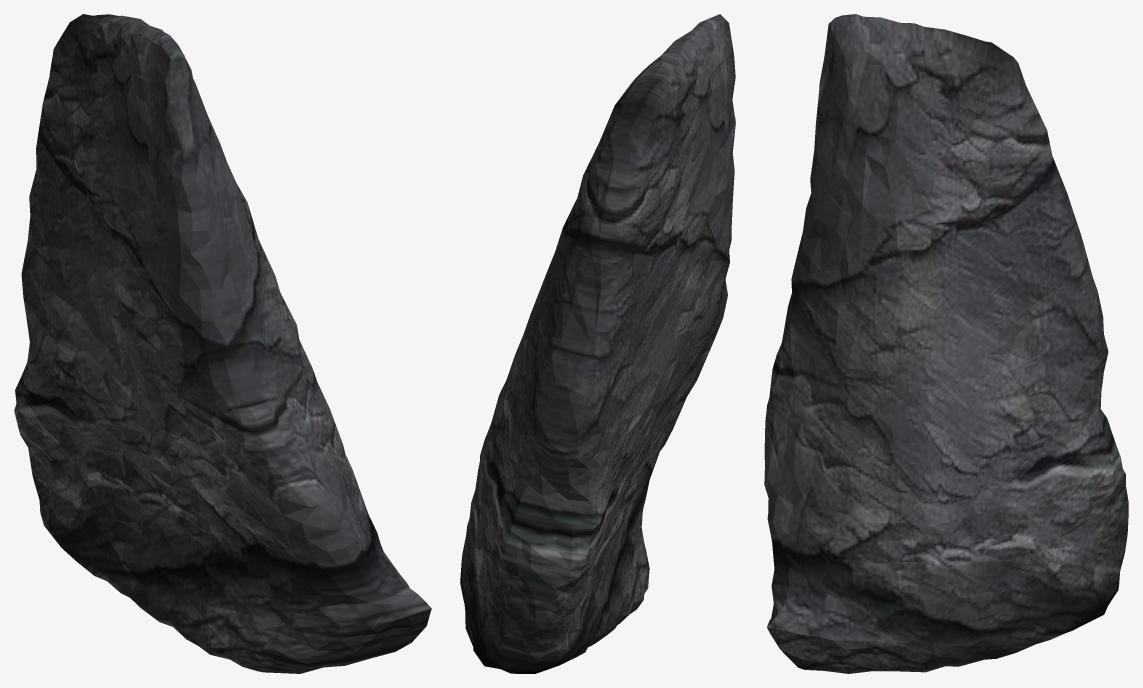
File: BIGrock4.fbx
3 views of the same model, side by side, from view 1: azimuth 30°, elevation 25°; view 2: azimuth 150°, elevation 25°; view 3: azimuth 270°, elevation 25° (orthographic). The views are drawn at different scales.
Visible parts, largest first — view 1: rock.007; view 2: rock.007; view 3: rock.007.
Boxes of the visible parts, x1,y1,x2,y2 form: rock.007: (14,14,431,673); rock.007: (460,14,735,673); rock.007: (764,14,1128,673).
Size of the model in its own units: 648 by 1620 by 925.
